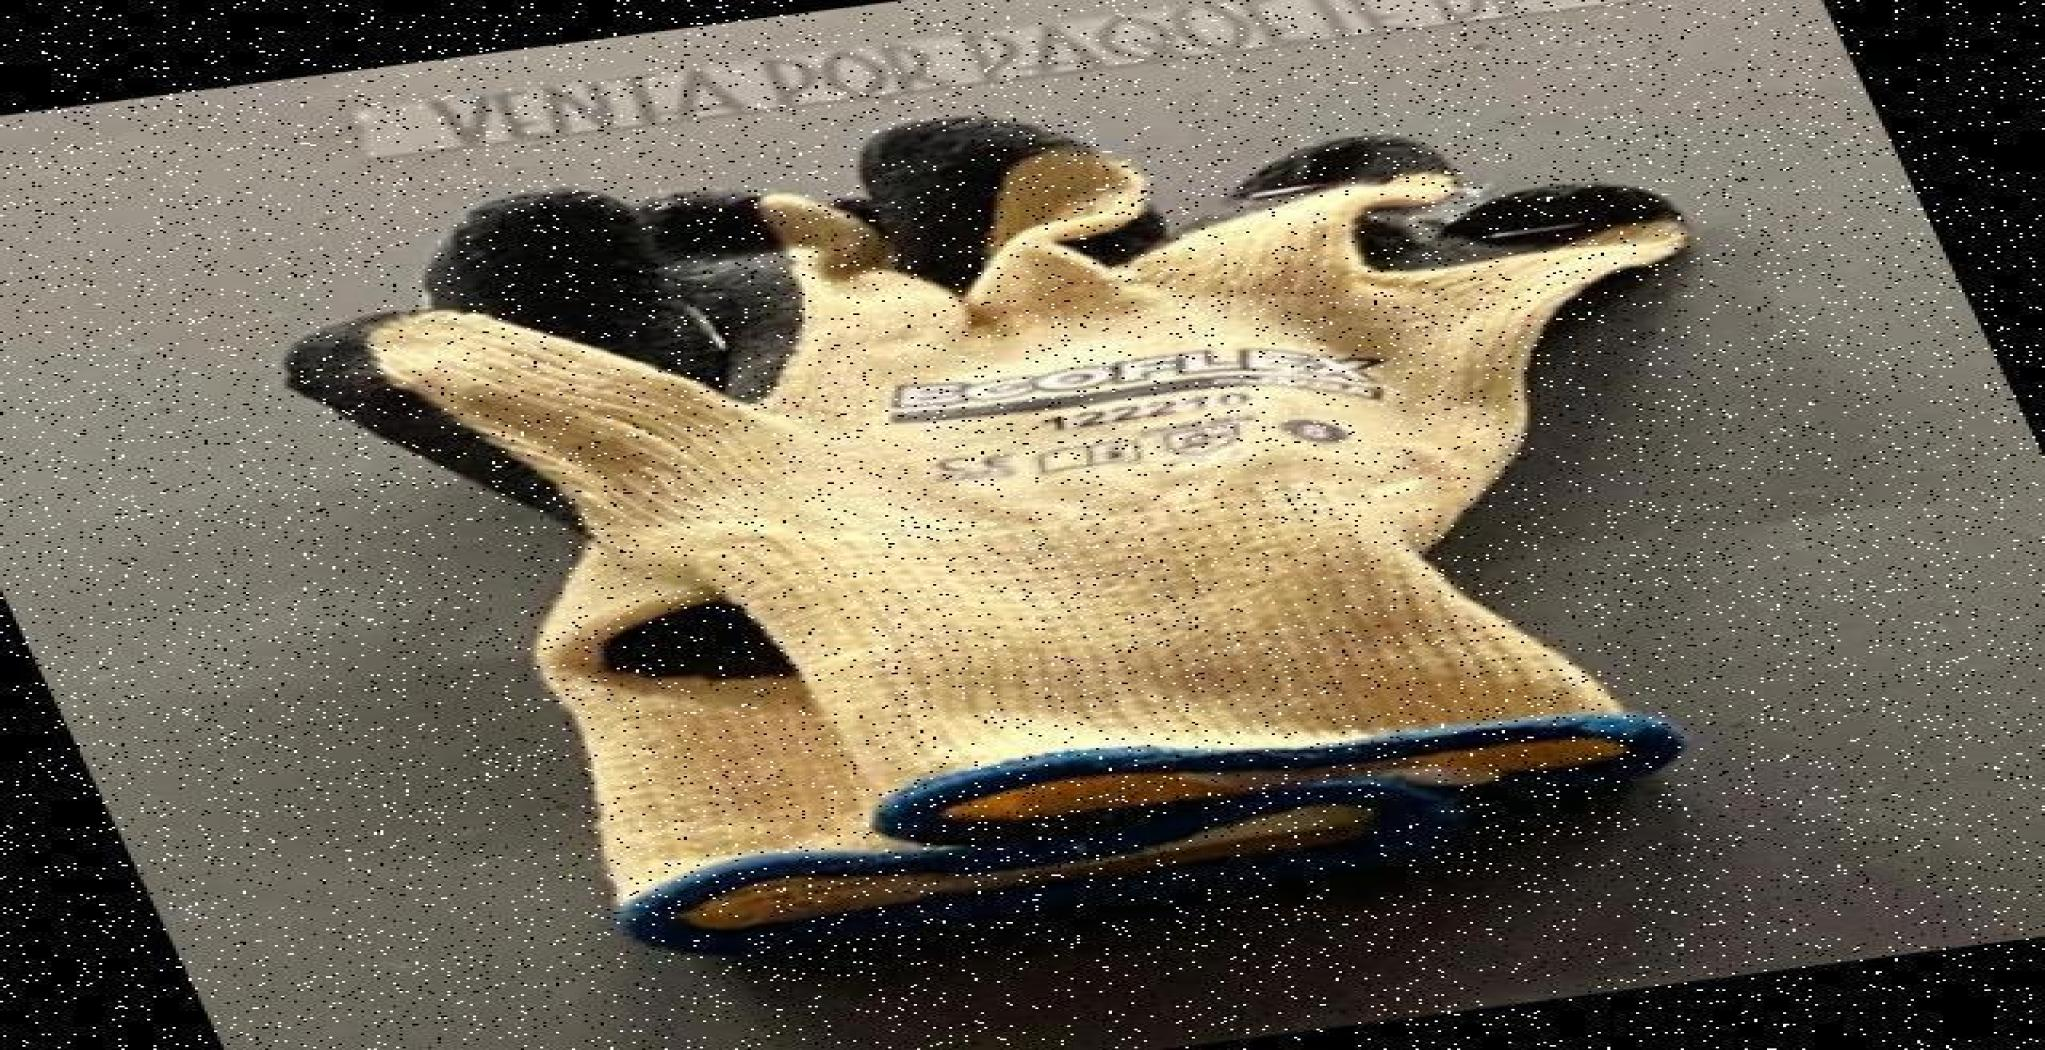gloved: (288, 115, 1697, 950)
